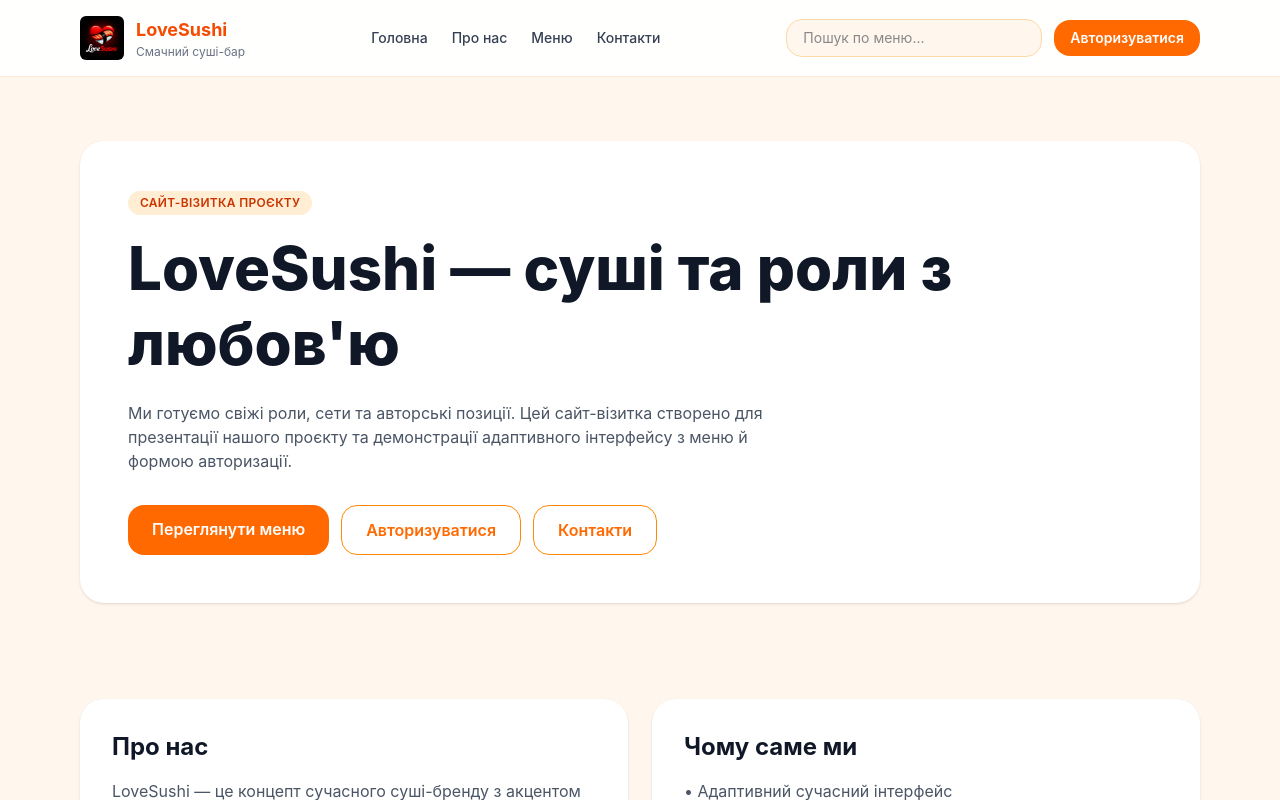
Test case: 3. Opening the login form › Should open the login modal after clicking the Authorize button
Click the button "Авторизуватися" in the row of "Головна" at (1127,38), box x1=1054 y1=20 x2=1200 y2=56
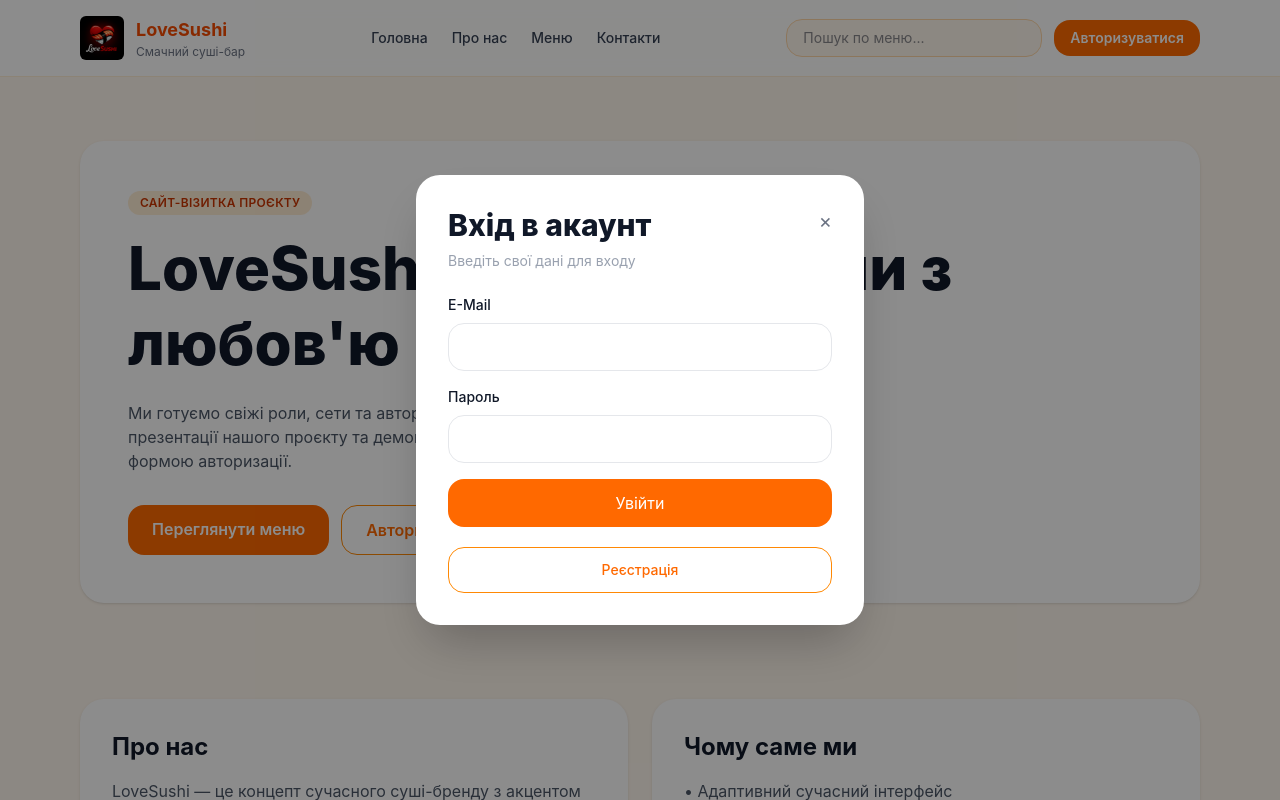
Expected: the form is shown, x1=448 y1=295 x2=832 y2=527
Expected: the heading "Вхід в акаунт" is shown, x1=448 y1=207 x2=651 y2=243
